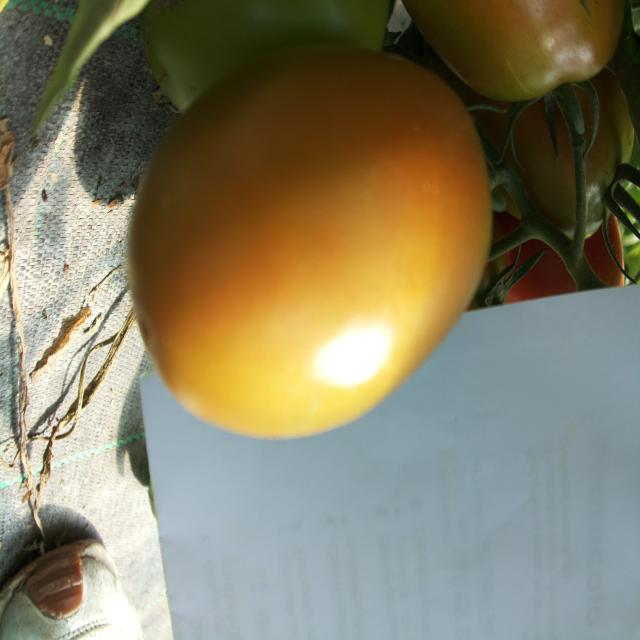sari: (68, 21, 495, 442)
